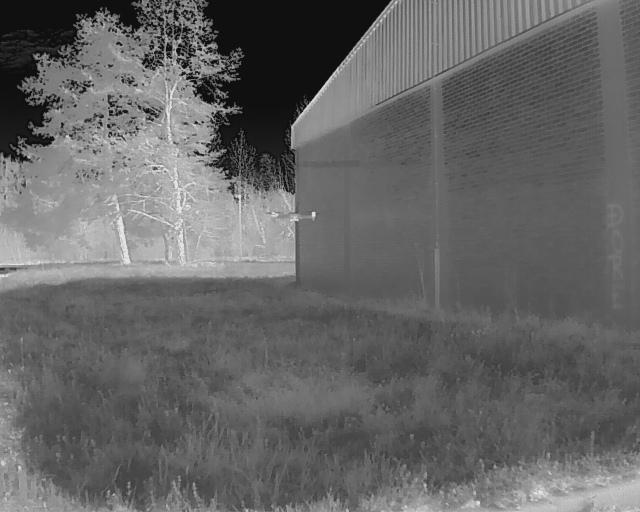drone: (256, 210, 323, 234)
